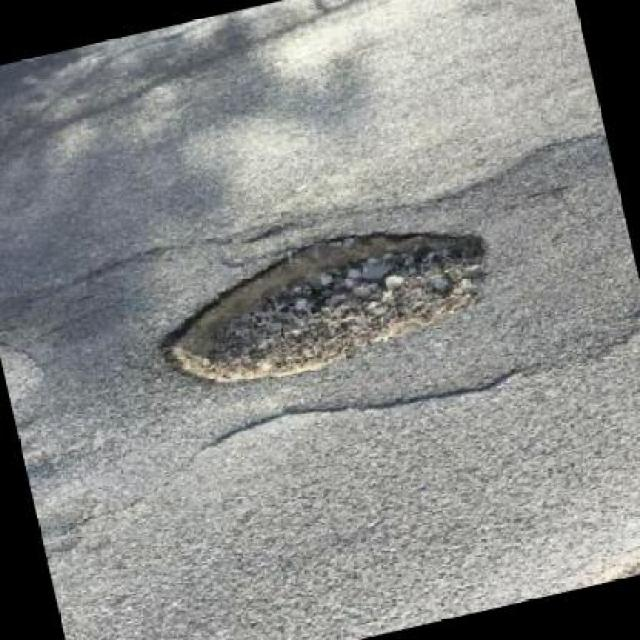pothole: (135, 195, 507, 403)
